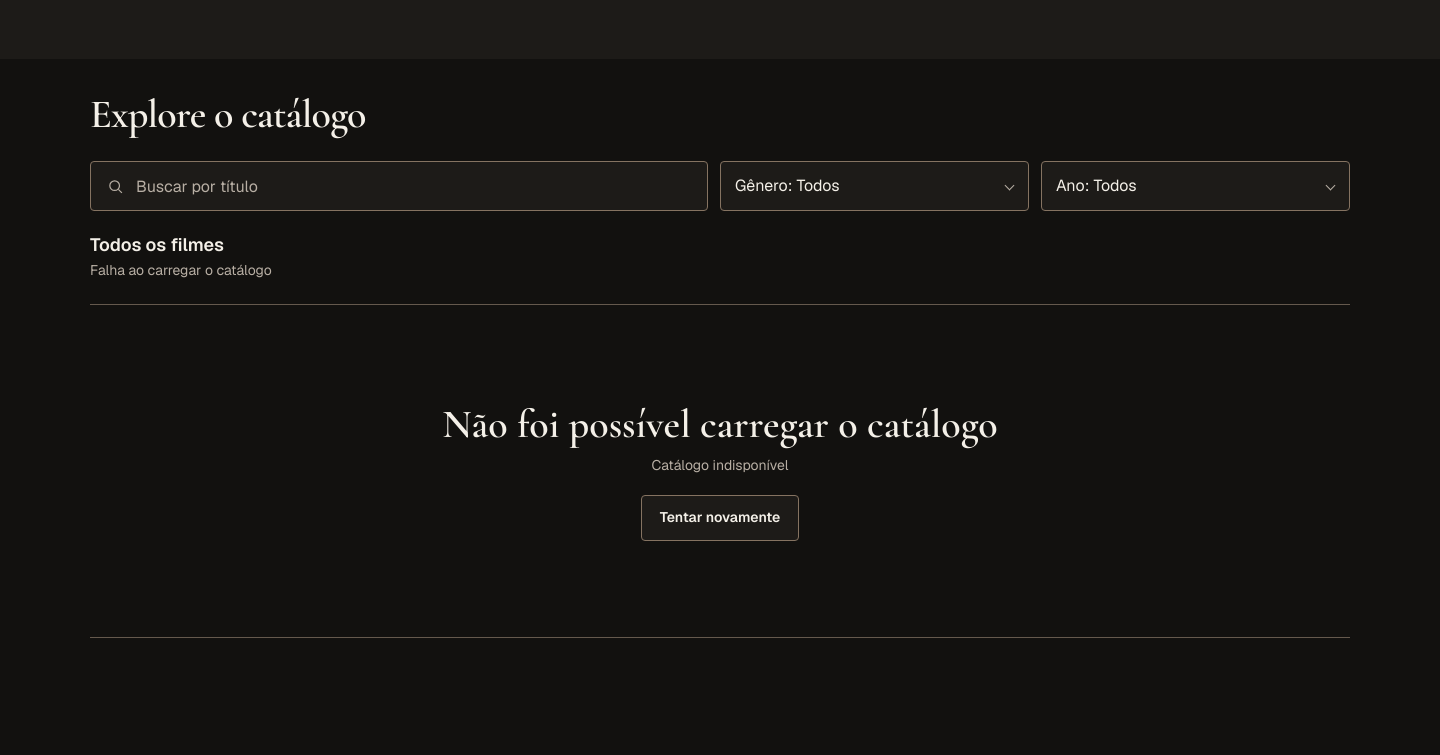
Test case: erro do catálogo permite tentar novamente
(page scrolled)
Expected: the heading "Não foi possível carregar o catálogo" is shown, [442,401,998,447]
Click the button "Tentar novamente" at (720, 518), box [641,495,799,541]
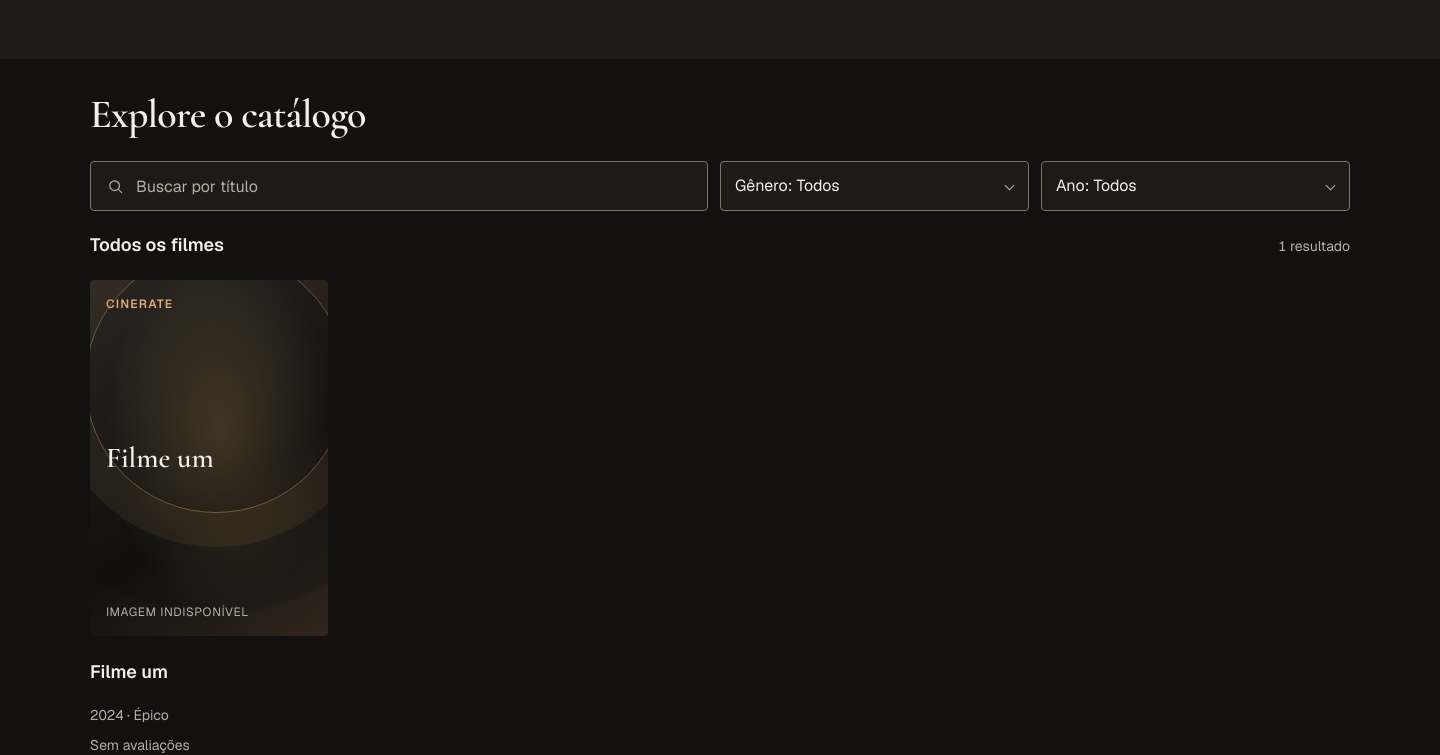
Result: the button with aria-label "Ver detalhes de Filme um" is shown at [90,280,328,636]
